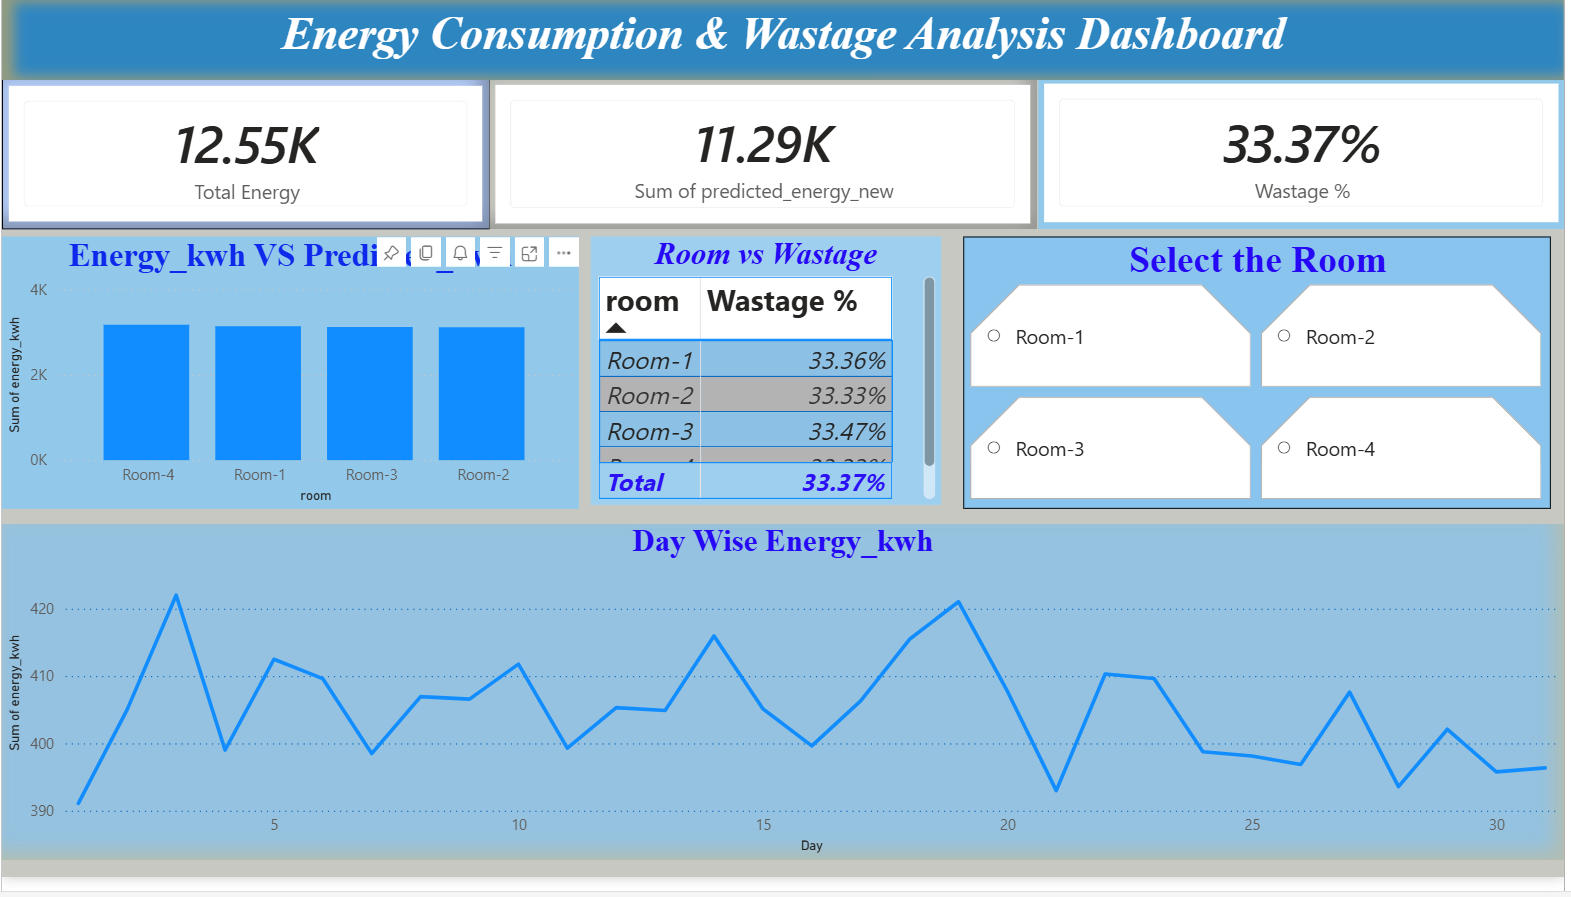

The page's visual inventory and layout, read from the dashboard file:
{"tool":"powerbi","page":{"name":"Demo","canvas":[1280,720],"ordinal":0},"visuals":[{"type":"cardVisual","fields":{"Data":["final_energy_analysis.Total Energy"]},"box":[0,65.1,400,123.3],"z":0},{"type":"cardVisual","fields":{"Data":["Sum(final_energy_analysis.predicted_energy_new)"]},"box":[400,65.1,448.8,123.3],"z":1000},{"type":"cardVisual","fields":{"Data":["final_energy_analysis.Wastage %"]},"box":[848.9,64.8,431.1,123.7],"z":2000},{"type":"clusteredColumnChart","title":"Energy_kwh VS Predicted_kwh","fields":{"Category":["final_energy_analysis.room"],"Y":["Sum(final_energy_analysis.energy_kwh)"]},"box":[0,194.5,473.1,223.3],"z":3000},{"type":"lineChart","title":"Day Wise Energy_kwh","fields":{"Category":["final_energy_analysis.timestamp.Variation.Date Hierarchy.Year","final_energy_analysis.timestamp.Variation.Date Hierarchy.Quarter","final_energy_analysis.timestamp.Variation.Date Hierarchy.Month","final_energy_analysis.timestamp.Variation.Date Hierarchy.Day"],"Y":["Sum(final_energy_analysis.energy_kwh)"]},"box":[0,429.9,1280,275],"z":4000},{"type":"advancedSlicerVisual","title":"Select the Room","fields":{"Values":["final_energy_analysis.room"]},"box":[787.7,194.5,481.5,223.3],"z":5000},{"type":"tableEx","title":"Room vs Wastage","fields":{"Values":["final_energy_analysis.room","final_energy_analysis.Wastage %"]},"box":[482.6,194.2,287,220],"z":6000},{"type":"textbox","box":[0,0,1280.2,66],"z":7000}]}

Visuals, with their boxes in screenshot pixels (x1, y1, x2, y2), scaled from the page's 1280x720 canvas onto the 1571x897 screenshot:
cardVisual - final_energy_analysis.Total Energy: 0 81 491 235
cardVisual - Sum(final_energy_analysis.predicted_energy_new): 491 81 1042 235
cardVisual - final_energy_analysis.Wastage %: 1042 81 1570 235
"Energy_kwh VS Predicted_kwh" clusteredColumnChart: 0 242 581 521
"Day Wise Energy_kwh" lineChart: 0 536 1570 878
"Select the Room" advancedSlicerVisual: 967 242 1558 521
"Room vs Wastage" tableEx: 592 242 945 516
textbox: 0 0 1570 82
